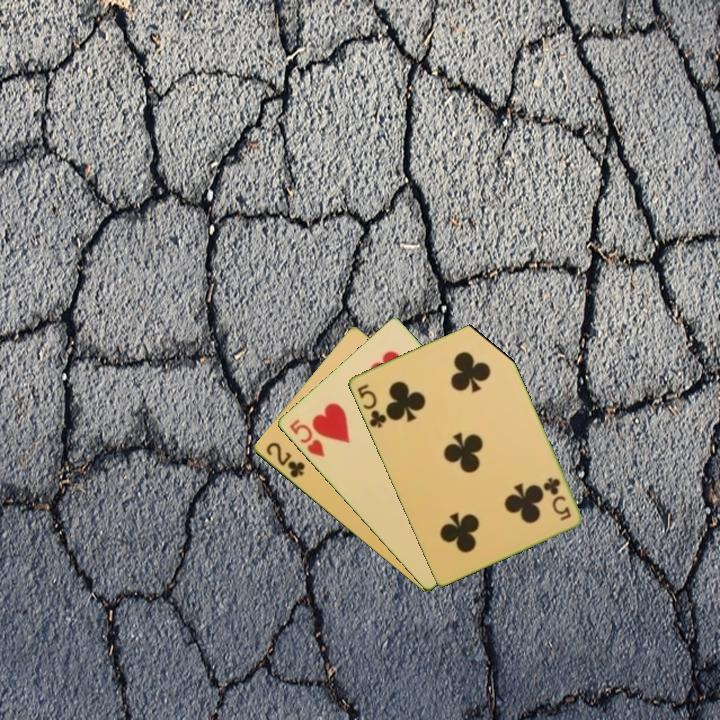2c: (262, 438, 308, 481)
5c: (353, 380, 389, 431), (540, 473, 574, 524)
5h: (285, 416, 327, 460)
